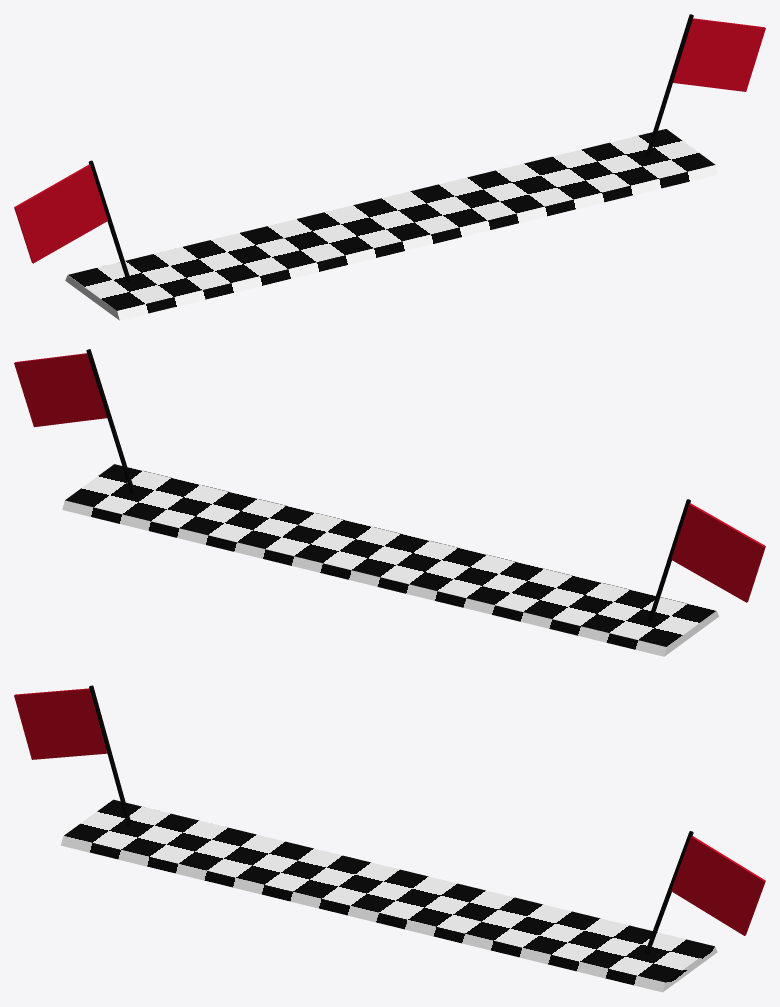
The model's file is Finish.fbx.
3 views of the same model, one above another, from view 1: azimuth 30°, elevation 25°; view 2: azimuth 150°, elevation 25°; view 3: azimuth 330°, elevation 25° (orthographic).
Visible parts, largest first — view 1: Cube, Куб, Куб.001, Цилиндр.001, Цилиндр; view 2: Cube, Куб, Куб.001, Цилиндр.001, Цилиндр; view 3: Cube, Куб.001, Куб, Цилиндр, Цилиндр.001.
Boxes of the visible parts, <box> form: Cube: <box>65,129,718,320</box>; Куб: <box>14,164,107,263</box>; Куб.001: <box>673,18,765,91</box>; Цилиндр.001: <box>645,14,693,158</box>; Цилиндр: <box>88,160,131,282</box>; Cube: <box>62,464,718,656</box>; Куб: <box>671,503,765,602</box>; Куб.001: <box>14,353,107,427</box>; Цилиндр.001: <box>86,349,135,493</box>; Цилиндр: <box>648,499,690,621</box>; Cube: <box>61,799,717,992</box>; Куб.001: <box>671,836,765,935</box>; Куб: <box>14,688,107,759</box>; Цилиндр: <box>89,685,131,826</box>; Цилиндр.001: <box>644,831,693,954</box>.
Size of the model in its own units: 2611 by 466 by 330.
3 materials, 1 textured.
